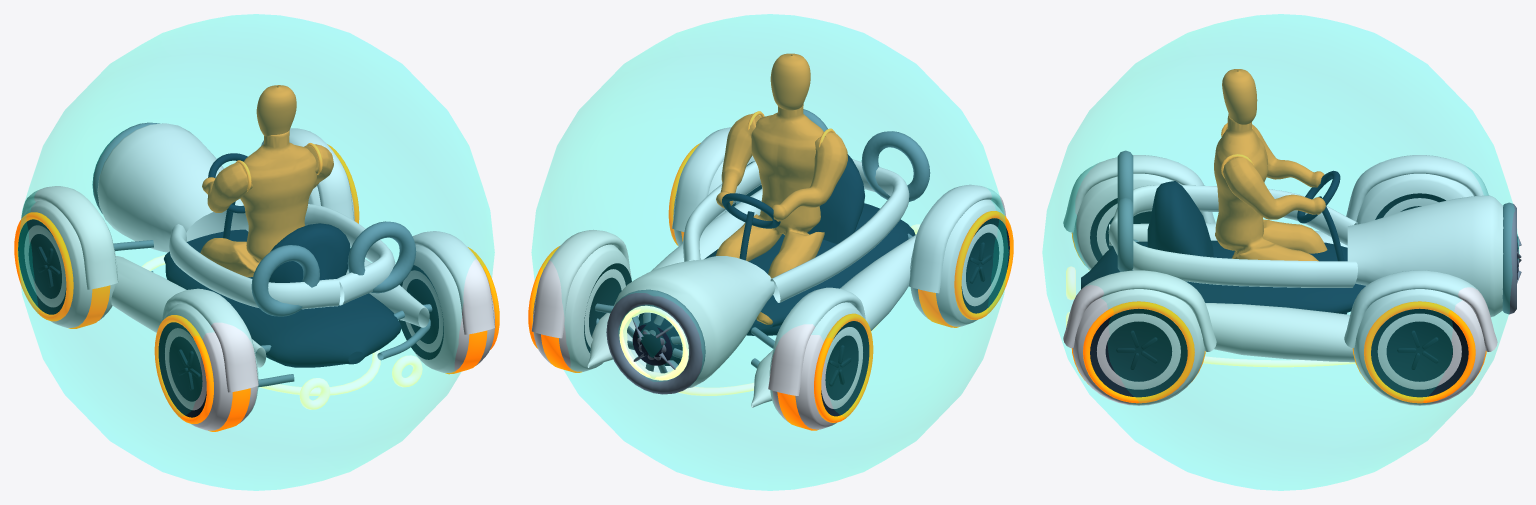
The model's file is nexus.glb.
The picture shows the model from 3 angles, left to right: view 1: azimuth 30°, elevation 25°; view 2: azimuth 150°, elevation 25°; view 3: azimuth 270°, elevation 25°; orthographic projection.
Visible parts, largest first — view 1: nexus:aegis-shield, nexus:coachwork-batch.001, nexus:coachwork-batch, nexus:torso, nexus:coachwork-batch.002, nexus:rounded-wheel-shell.003, nexus:rounded-wheel-shell.002, nexus:rounded-wheel-shell, nexus:recessed-colored-hub.002, nexus:recessed-colored-hub, nexus:head-mesh, nexus:wheel-light-ring (+10 smaller); view 2: nexus:aegis-shield, nexus:coachwork-batch.001, nexus:torso, nexus:coachwork-batch.002, nexus:coachwork-batch, nexus:rounded-wheel-shell.001, nexus:rounded-wheel-shell, nexus:rounded-wheel-shell.002, nexus:arm-l-mesh, nexus:recessed-colored-hub.002, nexus:recessed-colored-hub, nexus:head-mesh (+10 smaller); view 3: nexus:aegis-shield, nexus:coachwork-batch.001, nexus:coachwork-batch, nexus:torso, nexus:rounded-wheel-shell.001, nexus:rounded-wheel-shell.003, nexus:recessed-colored-hub.003, nexus:recessed-colored-hub.001, nexus:coachwork-batch.002, nexus:rounded-wheel-shell, nexus:arm-r-mesh, nexus:rounded-wheel-shell.002 (+7 smaller).
Boxes of the visible parts, x1,y1,x2,y2 form: nexus:aegis-shield: [17, 14, 494, 490]; nexus:coachwork-batch.001: [21, 123, 495, 392]; nexus:coachwork-batch: [164, 201, 401, 367]; nexus:torso: [200, 130, 316, 277]; nexus:coachwork-batch.002: [92, 122, 432, 387]; nexus:rounded-wheel-shell.003: [402, 246, 494, 372]; nexus:rounded-wheel-shell.002: [165, 303, 258, 430]; nexus:rounded-wheel-shell: [24, 200, 117, 327]; nexus:recessed-colored-hub.002: [158, 322, 206, 417]; nexus:recessed-colored-hub: [18, 219, 66, 314]; nexus:head-mesh: [256, 85, 296, 136]; nexus:wheel-light-ring: [14, 212, 73, 321]; nexus:aegis-shield: [531, 14, 1008, 490]; nexus:coachwork-batch.001: [531, 127, 1006, 407]; nexus:torso: [715, 104, 824, 324]; nexus:coachwork-batch.002: [595, 109, 930, 394]; nexus:coachwork-batch: [632, 154, 915, 365]; nexus:rounded-wheel-shell.001: [533, 244, 631, 371]; nexus:rounded-wheel-shell: [769, 302, 862, 429]; nexus:rounded-wheel-shell.002: [910, 199, 1003, 326]; nexus:arm-l-mesh: [771, 132, 847, 221]; nexus:recessed-colored-hub.002: [961, 218, 1009, 313]; nexus:recessed-colored-hub: [821, 321, 869, 416]; nexus:head-mesh: [770, 53, 810, 110]; nexus:aegis-shield: [1042, 14, 1519, 490]; nexus:coachwork-batch.001: [1063, 155, 1503, 362]; nexus:coachwork-batch: [1081, 181, 1517, 314]; nexus:torso: [1214, 114, 1327, 261]; nexus:rounded-wheel-shell.001: [1353, 289, 1485, 405]; nexus:rounded-wheel-shell.003: [1072, 289, 1204, 405]; nexus:recessed-colored-hub.003: [1090, 308, 1187, 397]; nexus:recessed-colored-hub.001: [1371, 308, 1468, 397]; nexus:coachwork-batch.002: [1117, 150, 1521, 314]; nexus:rounded-wheel-shell: [1356, 173, 1473, 224]; nexus:arm-r-mesh: [1223, 157, 1325, 219]; nexus:rounded-wheel-shell.002: [1072, 173, 1181, 270].
Bounding box in the file's own units: 4.3 × 4.3 × 4.32.
